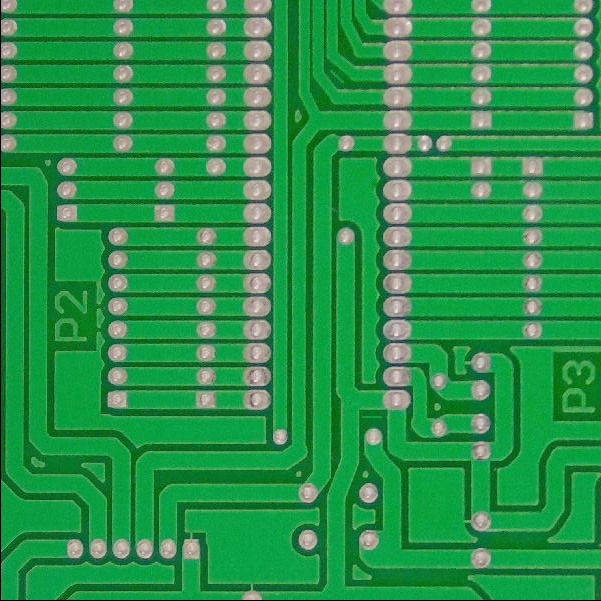spurious_copper: (323, 62, 350, 95), (358, 410, 386, 426)
